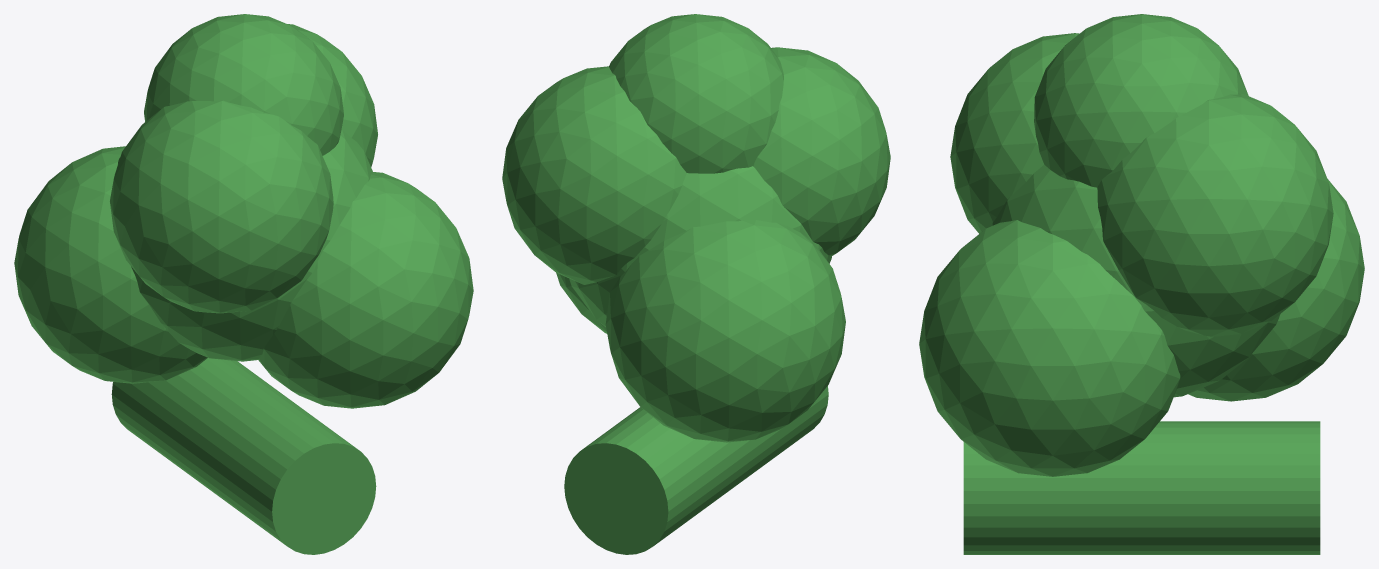
Rendered from model_pro_9bbf290e.glb.
The picture shows the model from 3 angles, left to right: view 1: azimuth 30°, elevation 25°; view 2: azimuth 150°, elevation 25°; view 3: azimuth 270°, elevation 25°; orthographic projection. The views are drawn at different scales.
Parts seen in each view (by area): view 1: world; view 2: world; view 3: world.
Part boxes in pixels (box(x1,y1,x2,y2)): world: box(14, 14, 473, 554); world: box(502, 14, 890, 554); world: box(919, 14, 1364, 554).
Size of the model in its own units: 1 by 1.3 by 1.
